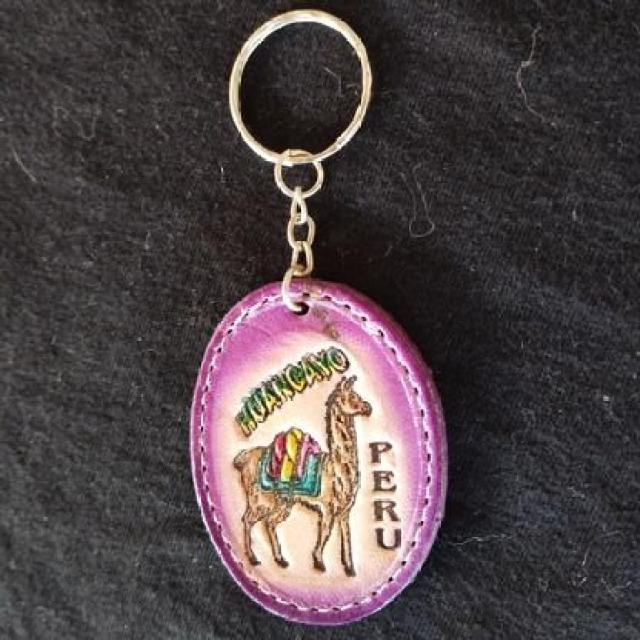Llavero: (188, 277, 448, 626)
